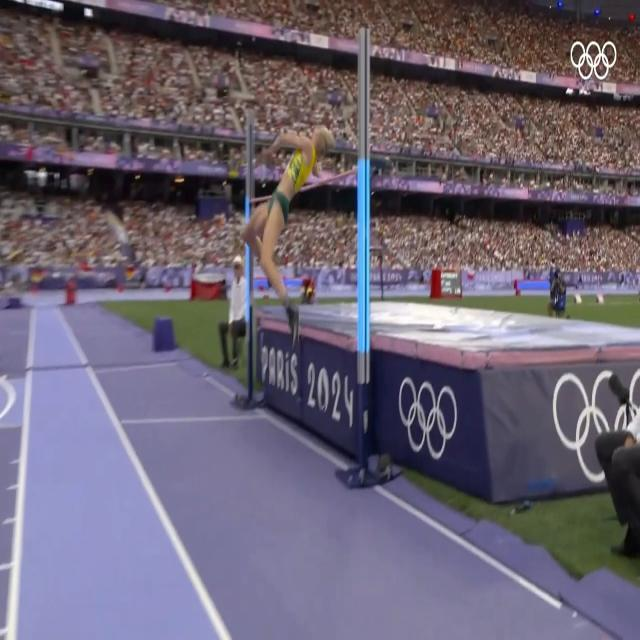jump: (243, 125, 335, 353)
